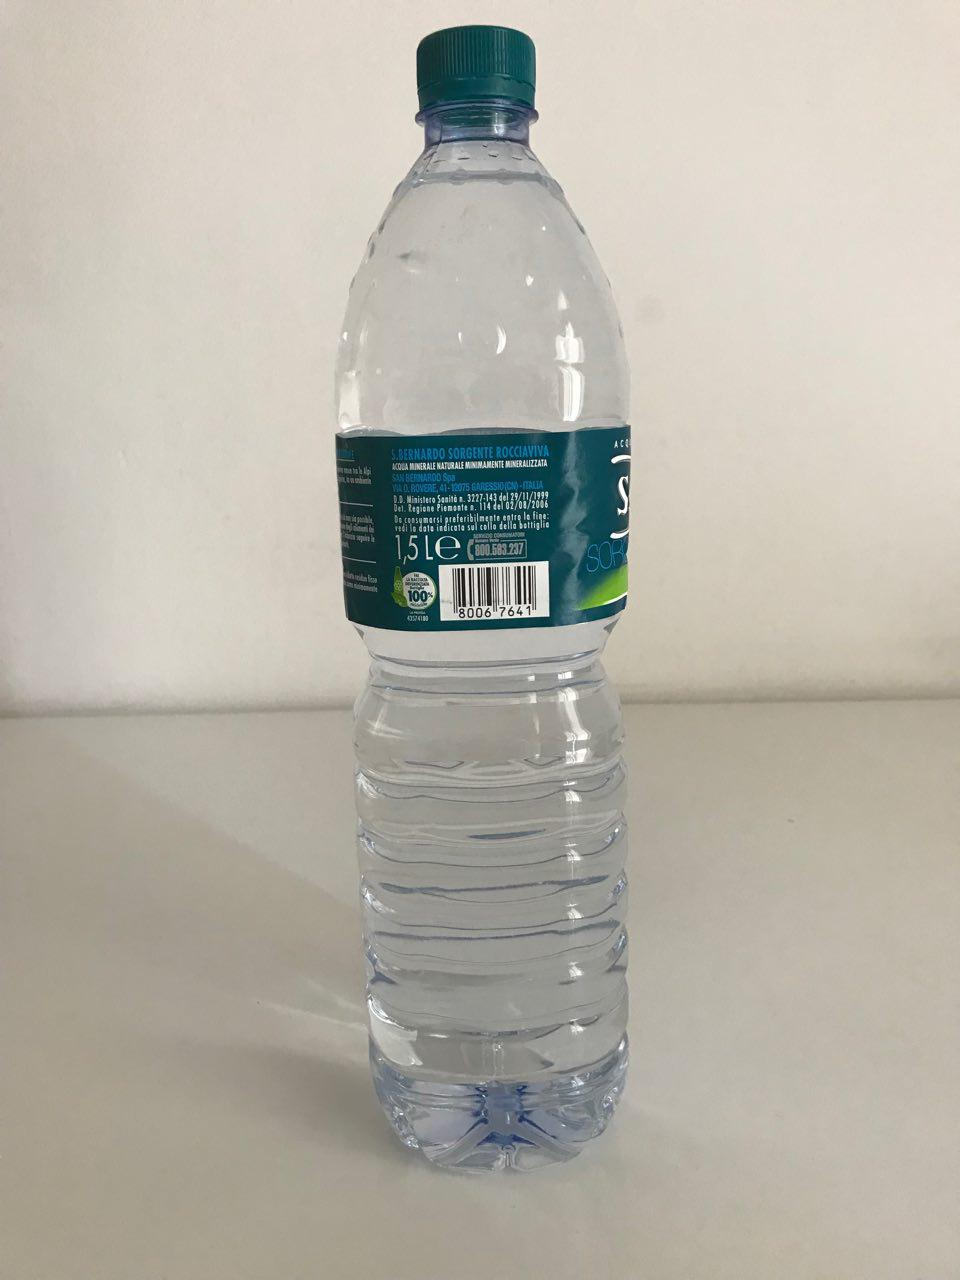san_bernardo: (332, 23, 635, 1179)
